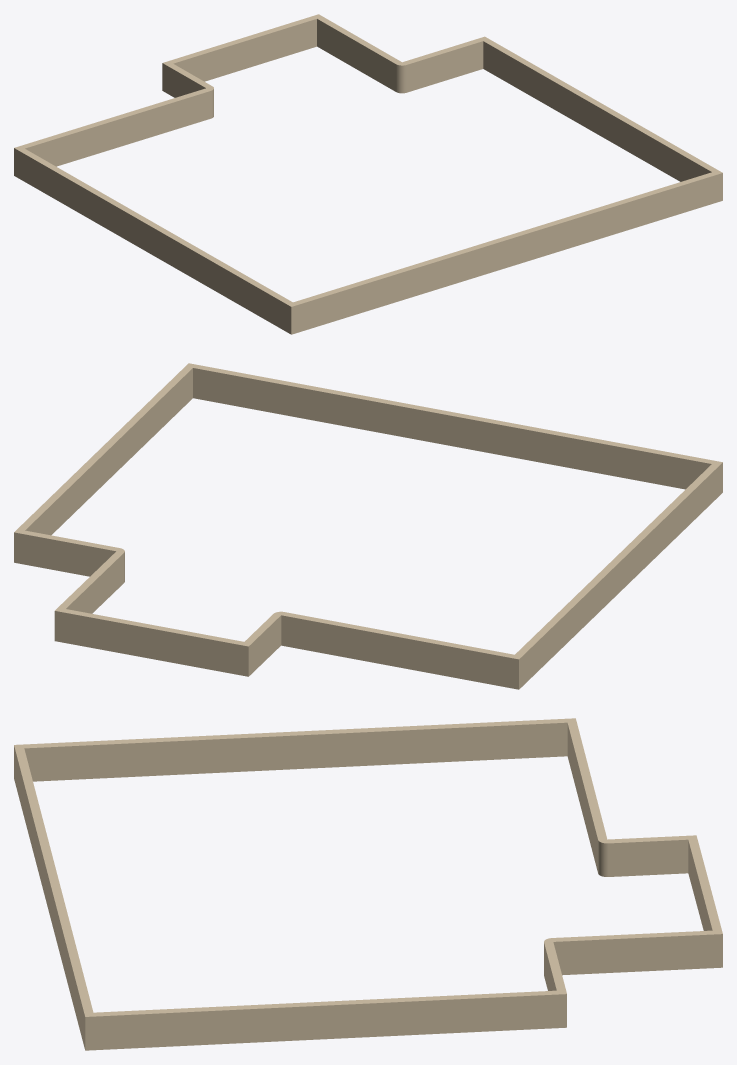
3 renders of one model, top to bottom at view 1: azimuth 30°, elevation 25°; view 2: azimuth 150°, elevation 25°; view 3: azimuth 270°, elevation 25°, orthographic. The views are drawn at different scales.
Parts seen in each view (by area): view 1: SM_10ea9ec3d59644242914; view 2: SM_10ea9ec3d59644242914; view 3: SM_10ea9ec3d59644242914.
Part boxes in pixels (x1=…): SM_10ea9ec3d59644242914: x1=14, y1=14, x2=722, y2=334; SM_10ea9ec3d59644242914: x1=14, y1=363, x2=722, y2=689; SM_10ea9ec3d59644242914: x1=14, y1=718, x2=722, y2=1050.
Bounding box in the file's own units: 13.6 × 13.65 × 0.715.
